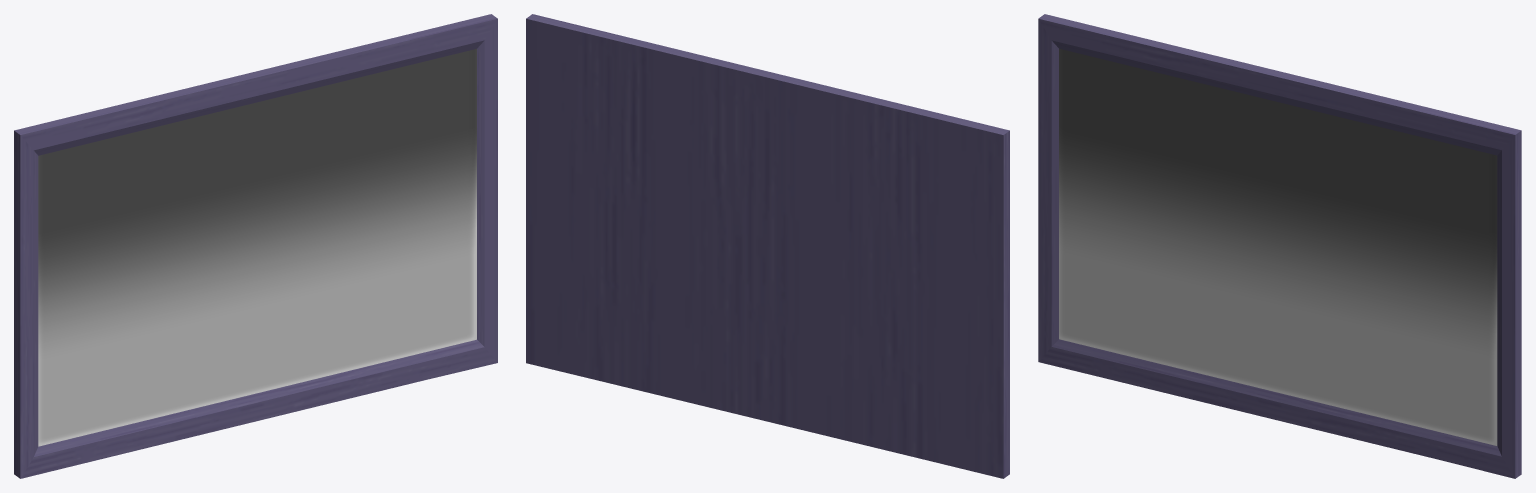
The model's file is Mirror_H.FBX.
The picture shows the model from 3 angles, left to right: view 1: azimuth 30°, elevation 25°; view 2: azimuth 150°, elevation 25°; view 3: azimuth 330°, elevation 25°; orthographic projection.
Parts seen in each view (by area): view 1: Mirror; view 2: Mirror; view 3: Mirror.
Part boxes in pixels (left/top/right/bottom): Mirror: left=14, top=14, right=497, bottom=478; Mirror: left=526, top=14, right=1009, bottom=478; Mirror: left=1038, top=14, right=1521, bottom=478.
Bounding box in the file's own units: 238 × 164 × 5.52.
